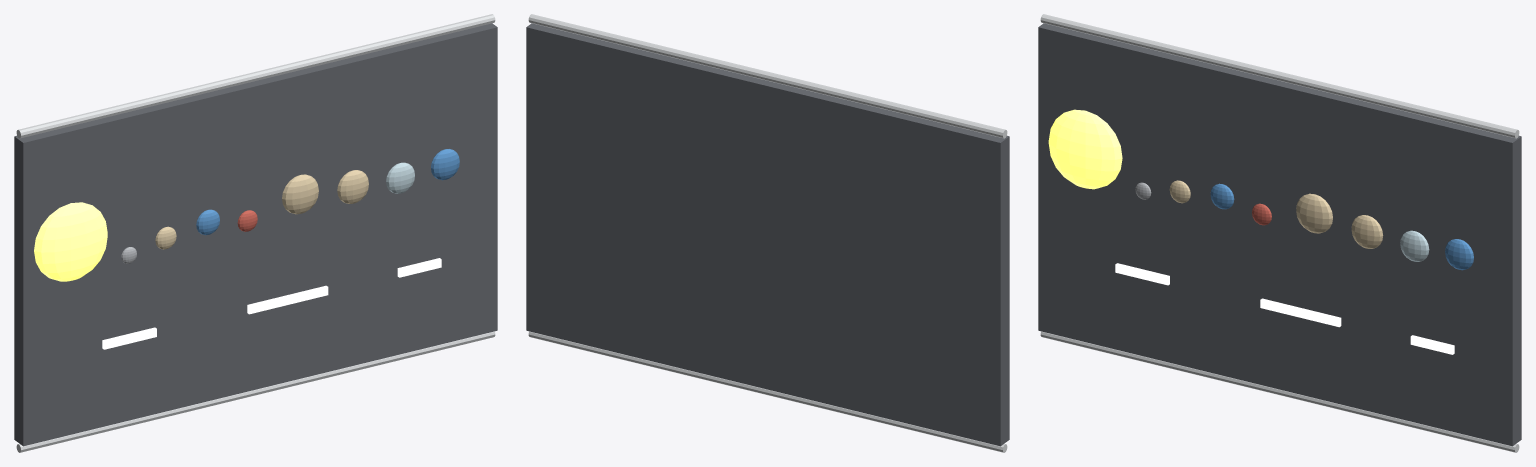
The model's file is solar-system-and-astronauts-solar-system-chart-panel-a147d8fd__39254.glb.
The picture shows the model from 3 angles, left to right: view 1: azimuth 30°, elevation 25°; view 2: azimuth 150°, elevation 25°; view 3: azimuth 330°, elevation 25°; orthographic projection.
Parts seen in each view (by area): view 1: solar-system-chart-panel; view 2: solar-system-chart-panel; view 3: solar-system-chart-panel.
Part boxes in pixels (x1=…): solar-system-chart-panel: x1=14, y1=14, x2=497, y2=452; solar-system-chart-panel: x1=526, y1=14, x2=1009, y2=452; solar-system-chart-panel: x1=1038, y1=14, x2=1521, y2=452.
Bounding box in the file's own units: 1.8 × 1.17 × 0.1146.
